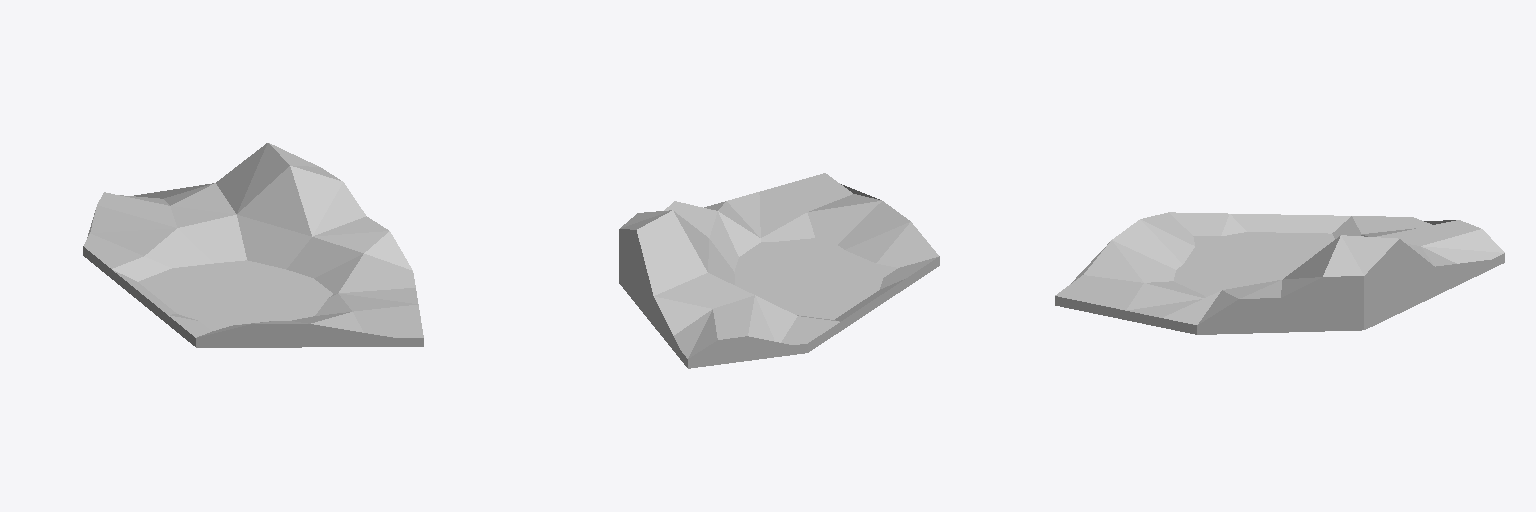
File: Iceberg 2.obj
3 renders of one model, left to right at view 1: azimuth 30°, elevation 25°; view 2: azimuth 150°, elevation 25°; view 3: azimuth 270°, elevation 25°, orthographic.
Parts seen in each view (by area): view 1: Iceberg 2; view 2: Iceberg 2; view 3: Iceberg 2.
Boxes of the visible parts, <box> form: Iceberg 2: <box>83,143,423,347</box>; Iceberg 2: <box>619,173,939,368</box>; Iceberg 2: <box>1055,212,1504,334</box>.
Size of the model in its own units: 7.36 by 3.18 by 12.39.